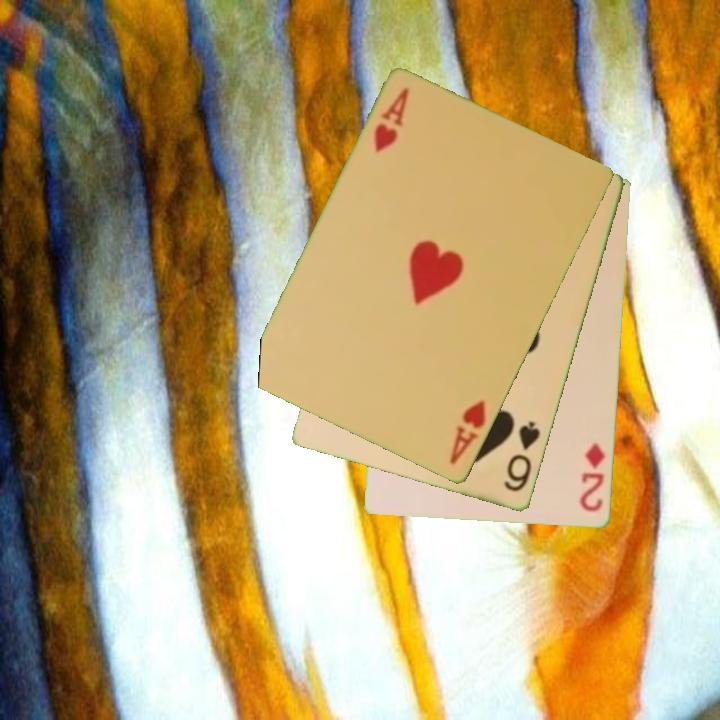2d: (577, 440, 609, 516)
6s: (501, 418, 544, 495)
Ah: (446, 397, 490, 468), (370, 84, 412, 157)
